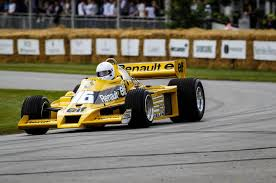FormulaOneCar: (15, 54, 211, 136)
